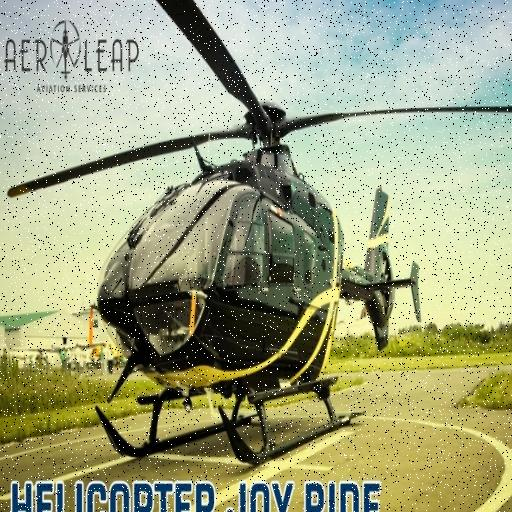helicopter: (2, 6, 512, 474)
